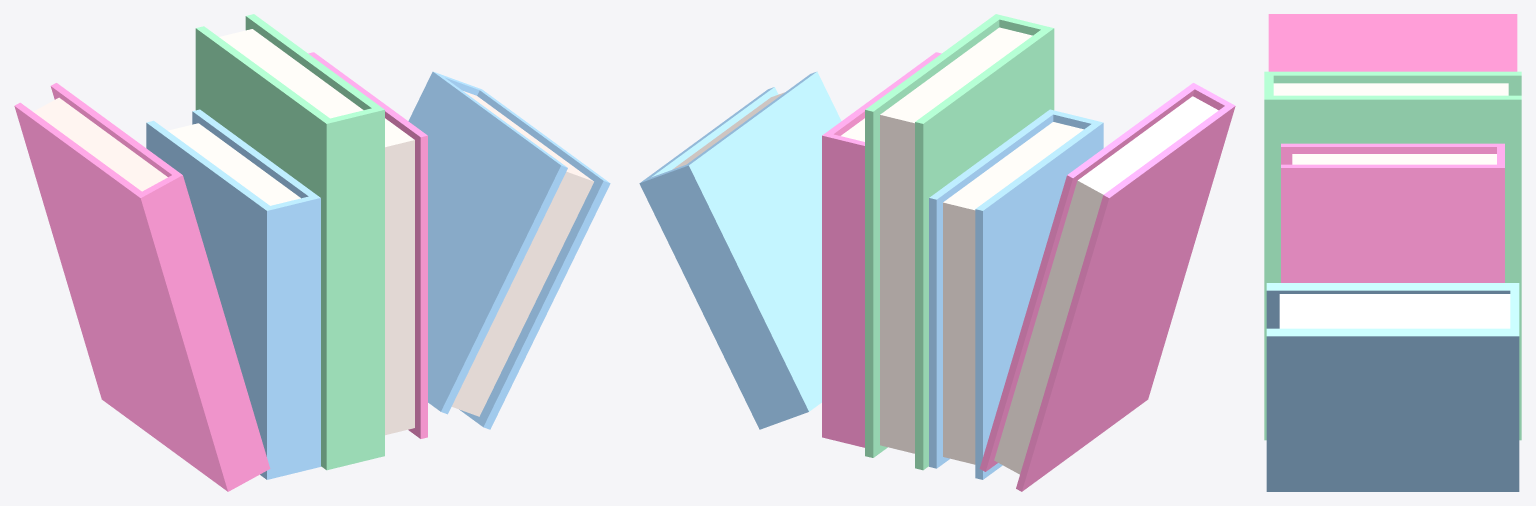
File: BookPile3.glb
The picture shows the model from 3 angles, left to right: view 1: azimuth 30°, elevation 25°; view 2: azimuth 150°, elevation 25°; view 3: azimuth 270°, elevation 25°; orthographic projection.
Visible parts, largest first — view 1: BookPile3; view 2: BookPile3; view 3: BookPile3.
Boxes of the visible parts, <box> form: BookPile3: <box>14,14,610,491</box>; BookPile3: <box>639,14,1235,491</box>; BookPile3: <box>1264,14,1521,491</box>.
Size of the model in its own units: 0.7 by 0.495 by 0.3384.
Materials: 1 (1 with a texture image).
